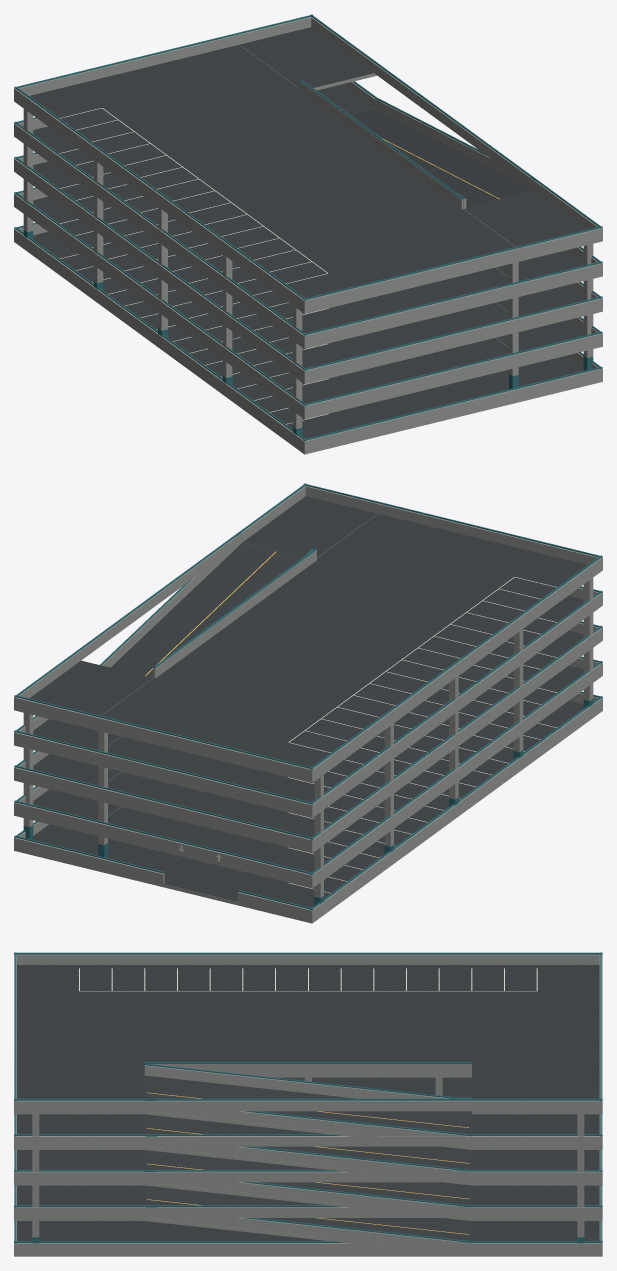
The model's file is small_05.glb.
The picture shows the model from 3 angles, top to bottom: view 1: azimuth 30°, elevation 25°; view 2: azimuth 150°, elevation 25°; view 3: azimuth 270°, elevation 25°; orthographic projection.
Parts seen in each view (by area): view 1: small_05_Asphalt, small_05_Concrete, small_05_Teal, small_05_Paint; view 2: small_05_Asphalt, small_05_Concrete, small_05_Teal, small_05_Paint; view 3: small_05_Asphalt, small_05_Concrete, small_05_Teal, small_05_Paint, small_05_Yellow.
Part boxes in pixels (box(x1,y1,x2,y2)): small_05_Asphalt: box(29, 27, 587, 438); small_05_Concrete: box(14, 16, 602, 454); small_05_Teal: box(14, 14, 602, 440); small_05_Paint: box(59, 108, 328, 424); small_05_Asphalt: box(29, 496, 587, 907); small_05_Concrete: box(14, 485, 602, 923); small_05_Teal: box(14, 483, 602, 909); small_05_Paint: box(288, 577, 557, 893); small_05_Asphalt: box(17, 965, 599, 1240); small_05_Concrete: box(14, 954, 602, 1256); small_05_Teal: box(14, 952, 602, 1243); small_05_Paint: box(79, 968, 537, 991); small_05_Yellow: box(147, 1092, 469, 1234).
Bounding box in the file's own units: 32 × 15.88 × 54.02.
Materials: 6 (2 with a texture image).
